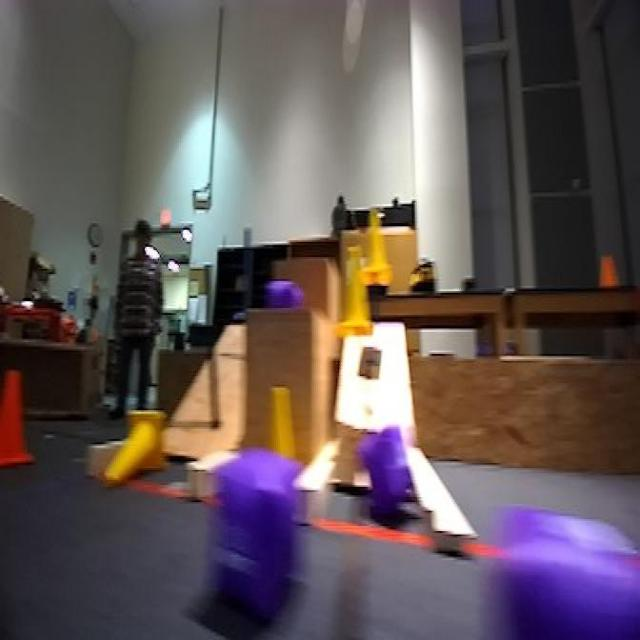frc_cone: (95, 407, 166, 492), (254, 378, 296, 492), (329, 240, 366, 337), (356, 209, 392, 291)
frc_cube: (490, 473, 640, 640), (230, 463, 316, 594), (342, 412, 421, 543), (255, 271, 307, 313)
